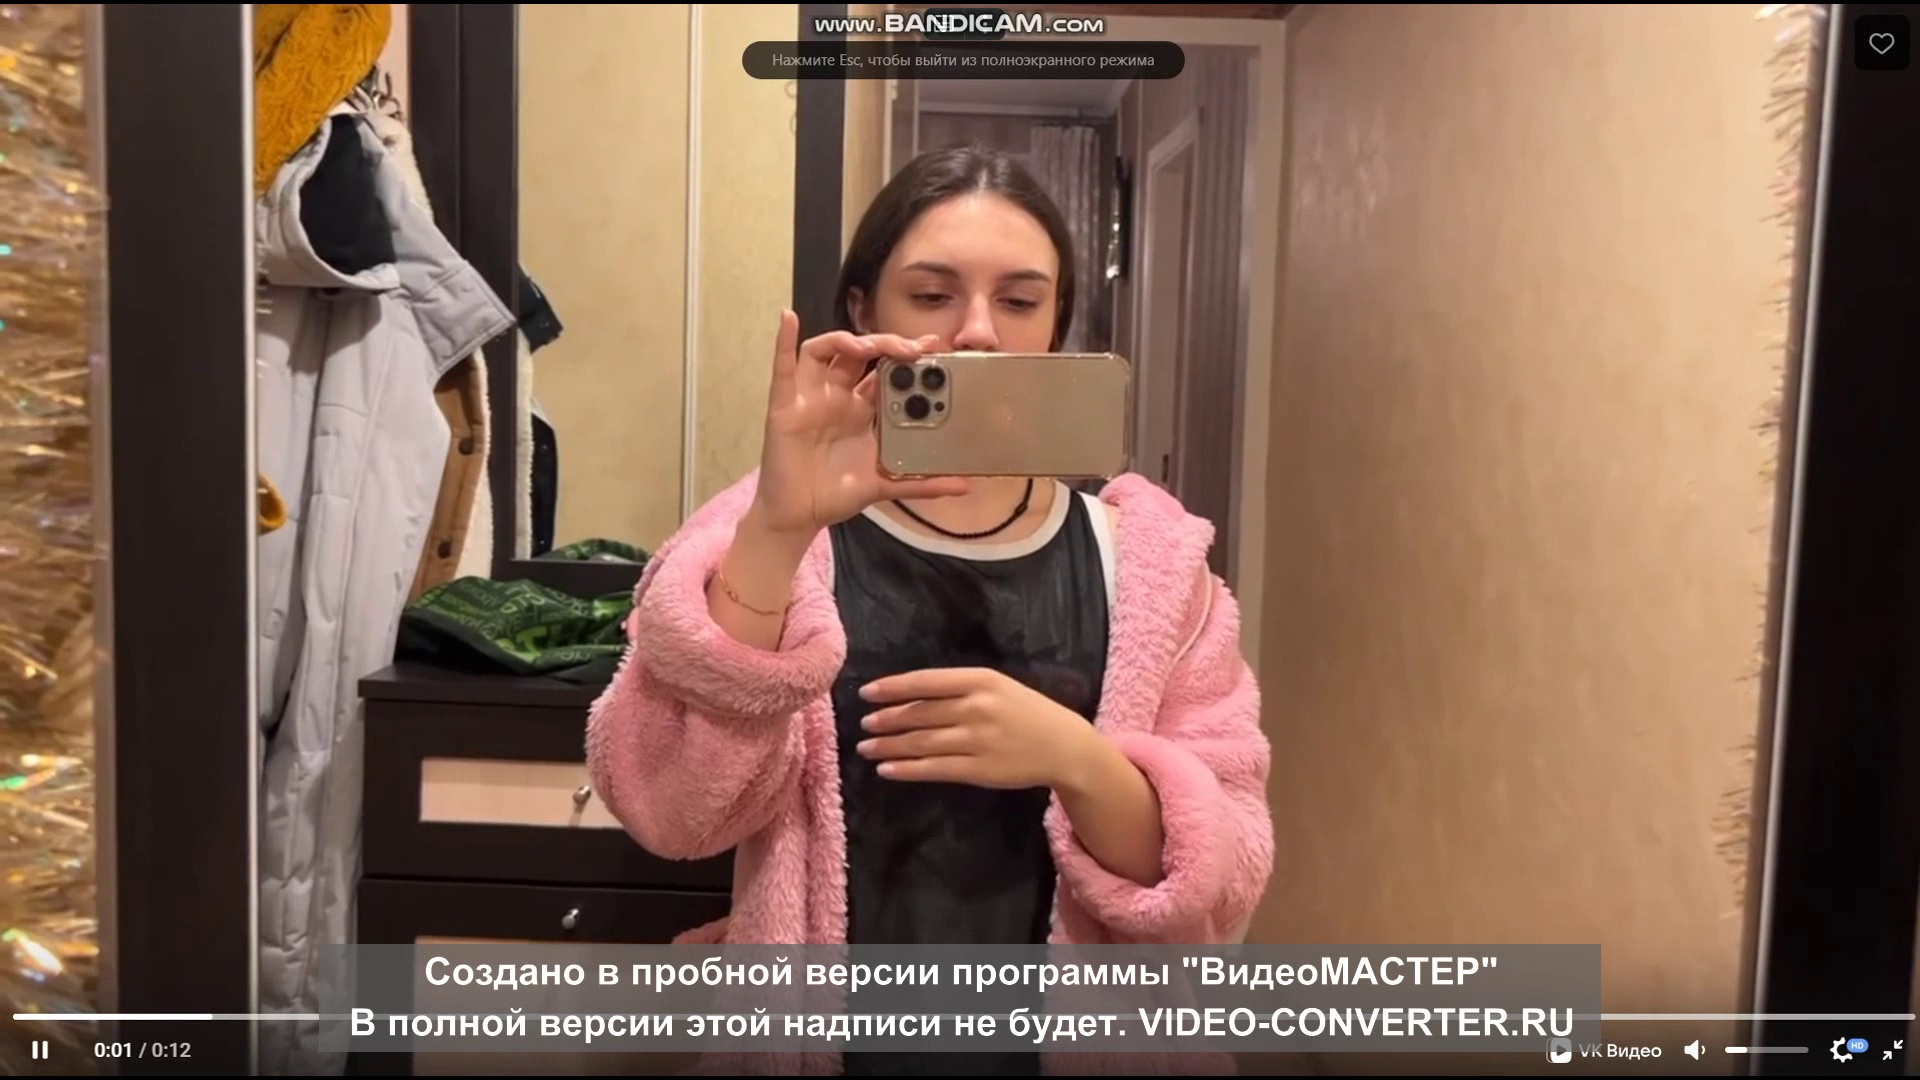Кисть: (857, 669, 1063, 786)
